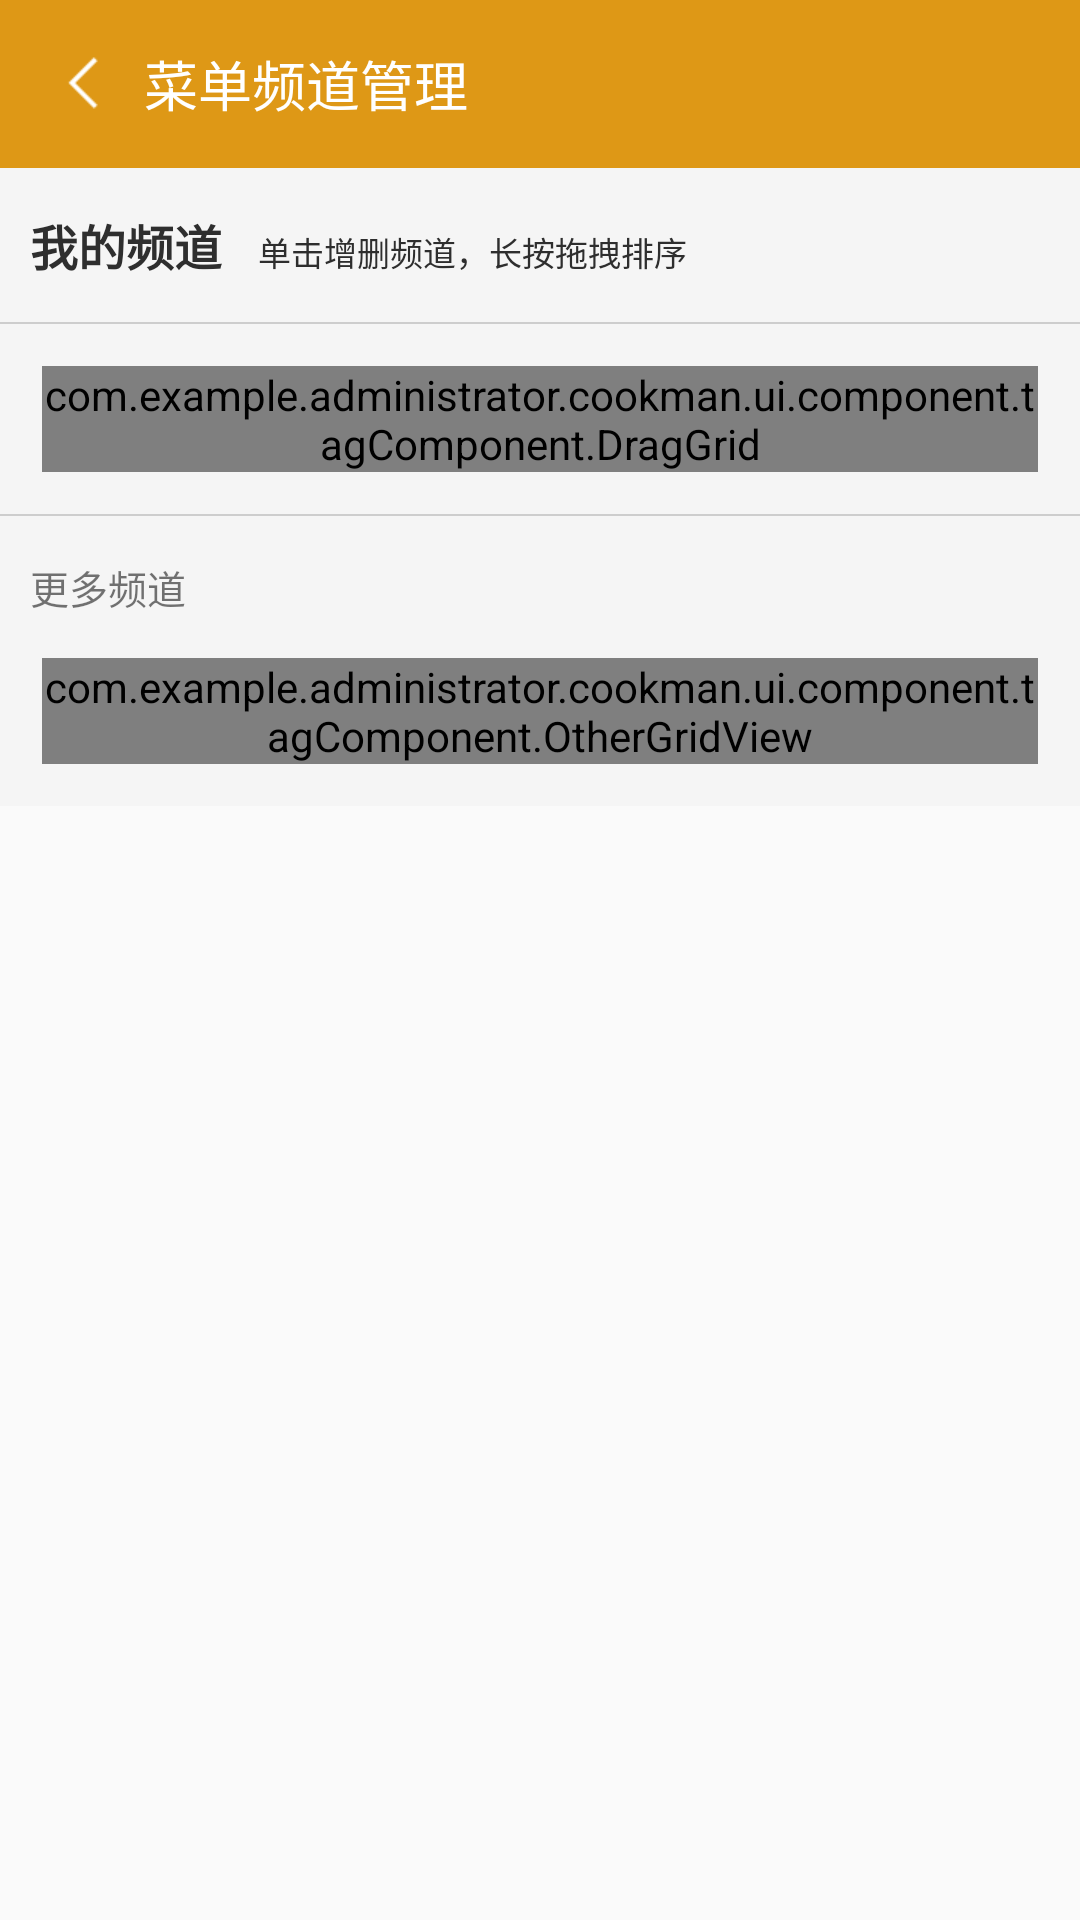

Locate icon controls on the screen. Image size 1080px x 1920px, boxes as {"left": x1, "top": y1, "right": x2, "bottom": y2}.
back: {"left": 68, "top": 57, "right": 98, "bottom": 109}
